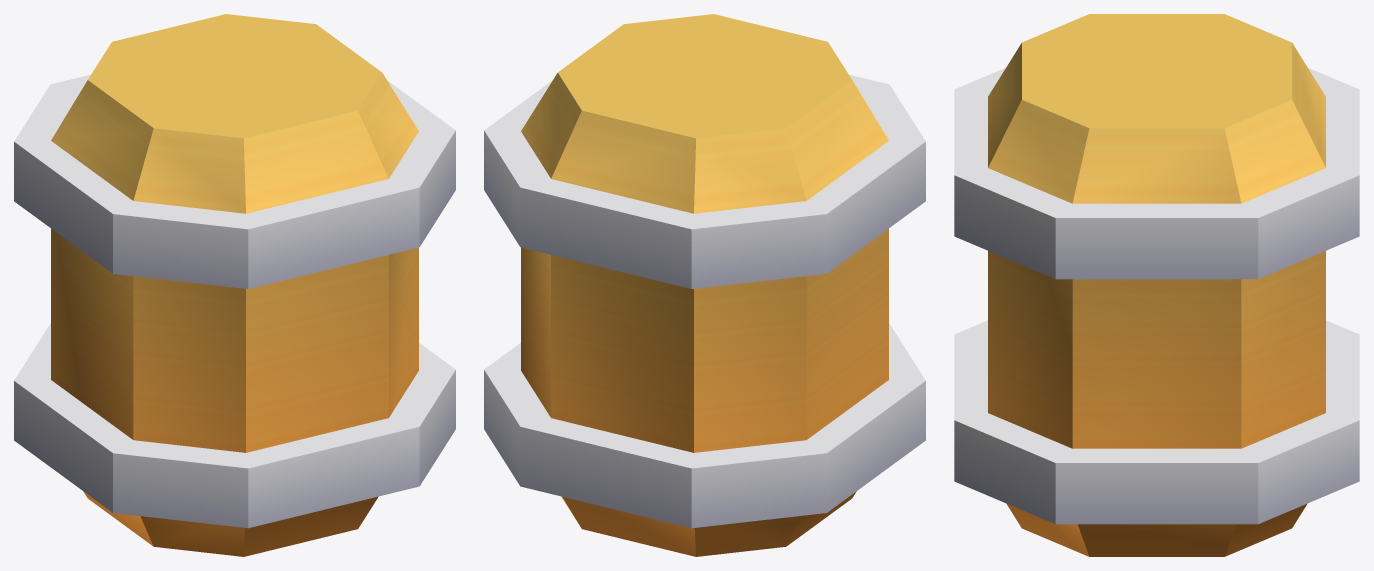
Rendered from scifi-container-wide.fbx.
3 renders of one model, left to right at view 1: azimuth 30°, elevation 25°; view 2: azimuth 150°, elevation 25°; view 3: azimuth 270°, elevation 25°, orthographic. The views are drawn at different scales.
Parts seen in each view (by area): view 1: scifi-container-wide; view 2: scifi-container-wide; view 3: scifi-container-wide.
Boxes of the visible parts, x1,y1,x2,y2 form: scifi-container-wide: [14, 14, 455, 556]; scifi-container-wide: [484, 14, 925, 556]; scifi-container-wide: [954, 14, 1359, 556].
Bounding box in the file's own units: 0.6 × 0.6 × 0.7.
